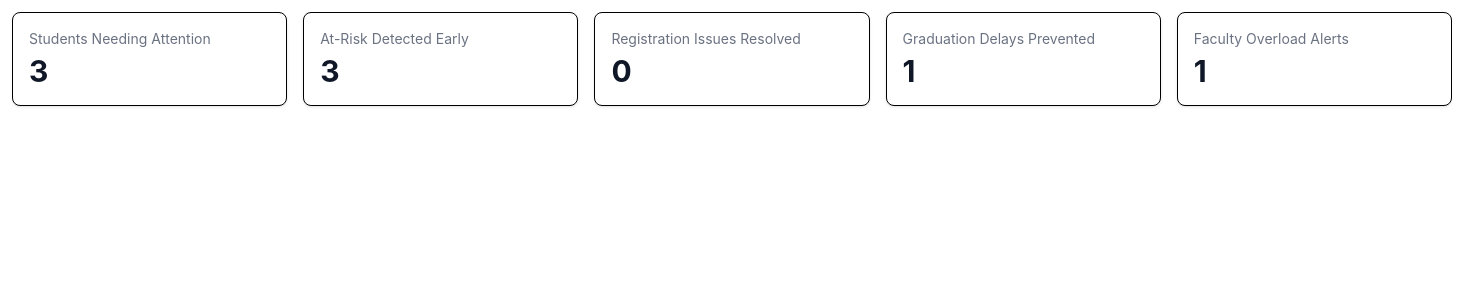
KpiCards zero-count empty state › a card reading zero still expands to the full panel chrome
Step 1. Click the button "Registration Issues Resolved 0" → click(706, 38), box [594,12,870,106]
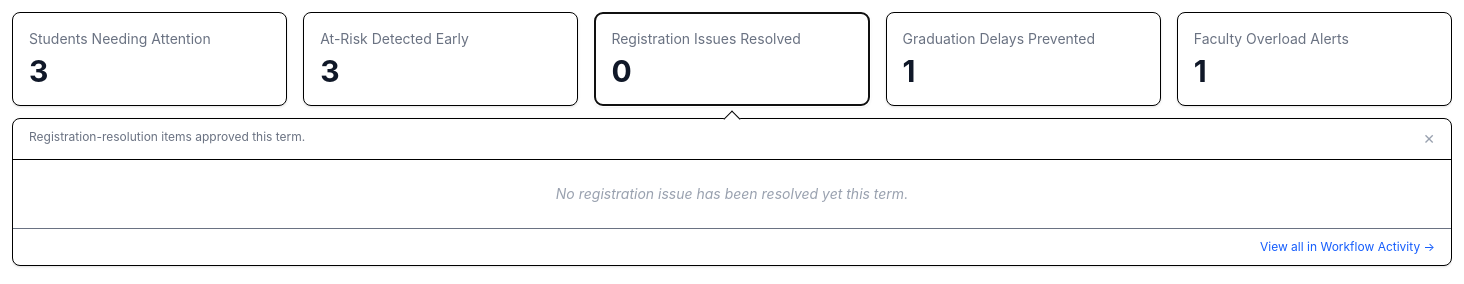
Check: the element with test id "kpi-drilldown" is shown, box [12,118,1452,266]
Check: the text with test id "drilldown-definition" reads "Registration-resolution items approved this term.", box [29,129,305,144]
